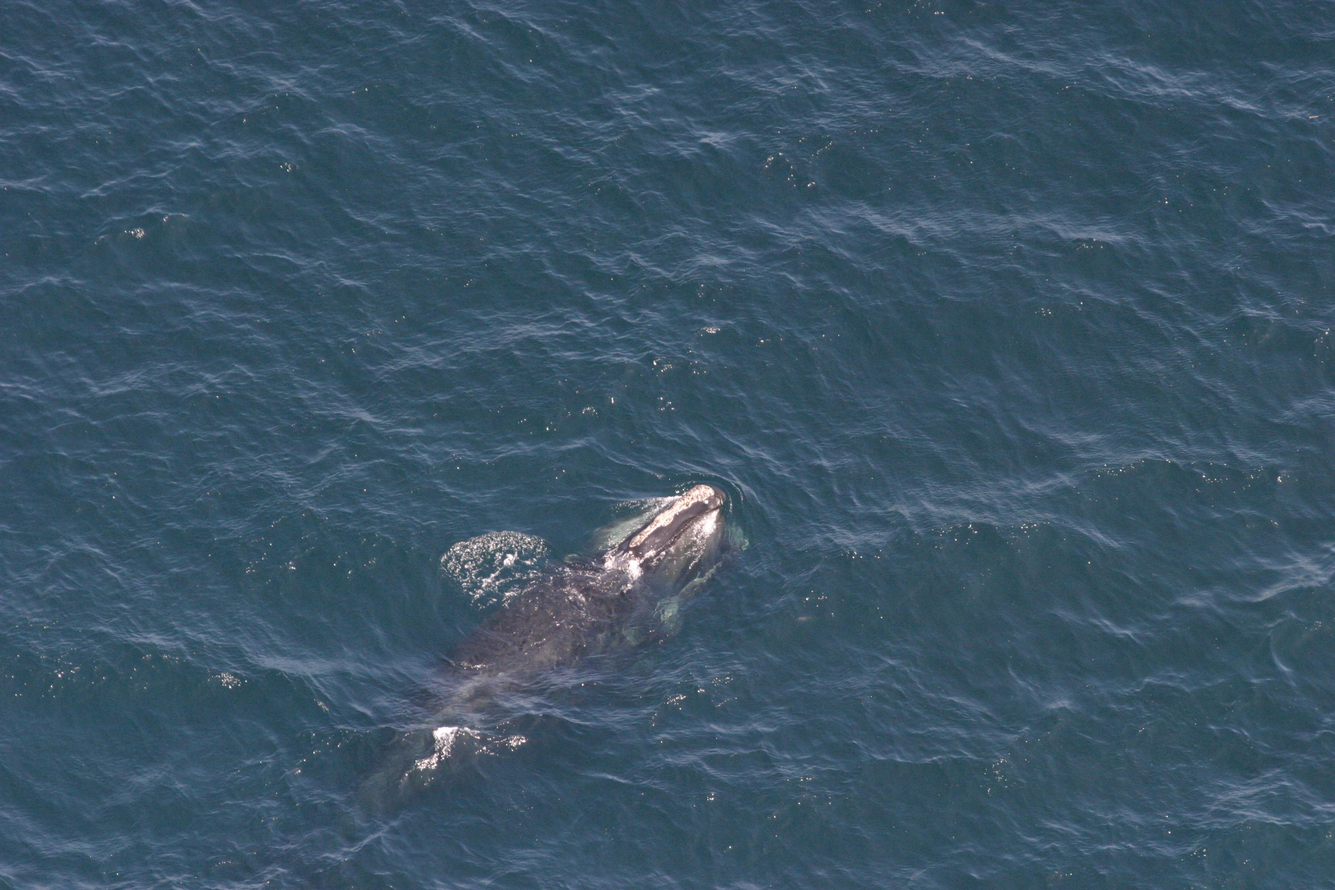whale: (252, 475, 754, 890)
